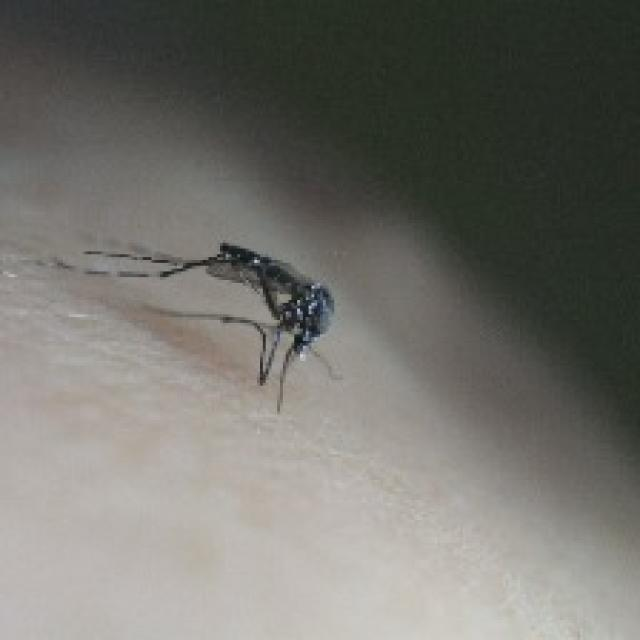aedes: (51, 237, 340, 414)
